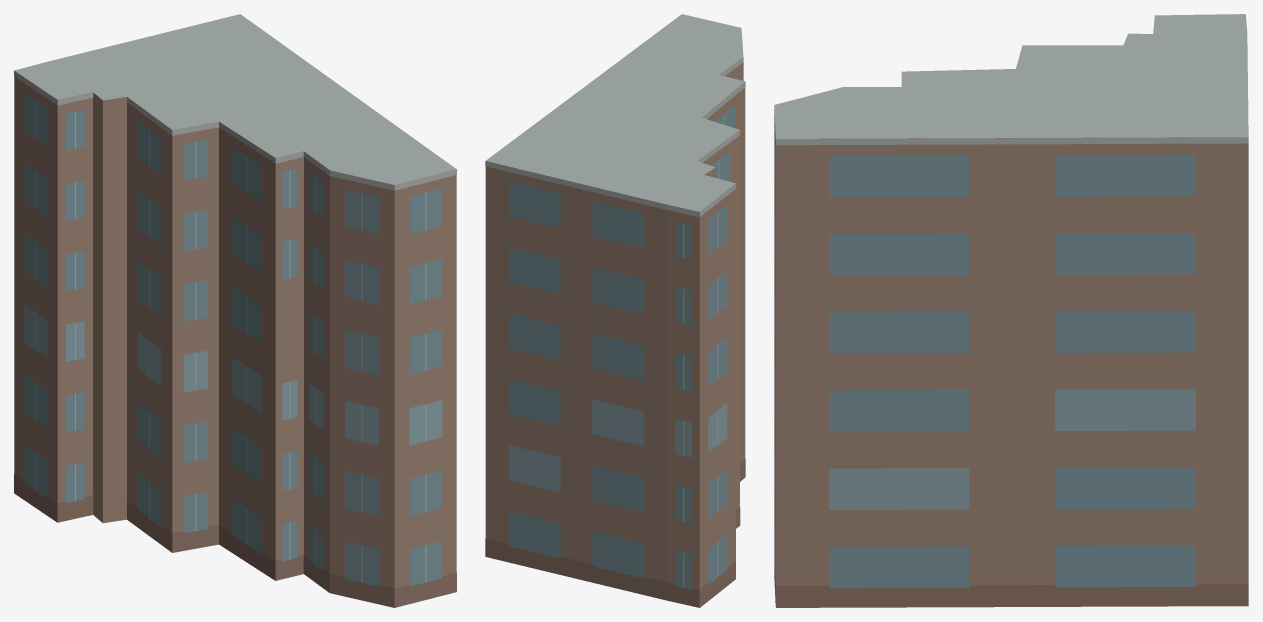
The model's file is survey-upis-33011121.glb.
3 renders of one model, left to right at view 1: azimuth 30°, elevation 25°; view 2: azimuth 150°, elevation 25°; view 3: azimuth 270°, elevation 25°, orthographic. The views are drawn at different scales.
Visible parts, largest first — view 1: survey-upis-33011121.tmp; view 2: survey-upis-33011121.tmp; view 3: survey-upis-33011121.tmp.
Boxes of the visible parts, <box> form: survey-upis-33011121.tmp: <box>14,14,456,607</box>; survey-upis-33011121.tmp: <box>485,14,745,607</box>; survey-upis-33011121.tmp: <box>774,14,1248,607</box>.
Bounding box in the file's own units: 10.35 × 18.1 × 16.6.
